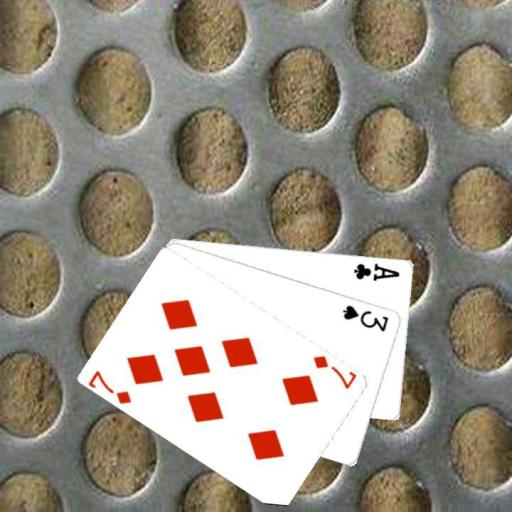3S: (340, 301, 390, 333)
7D: (310, 352, 358, 391), (87, 367, 134, 405)
AC: (351, 260, 401, 282)
